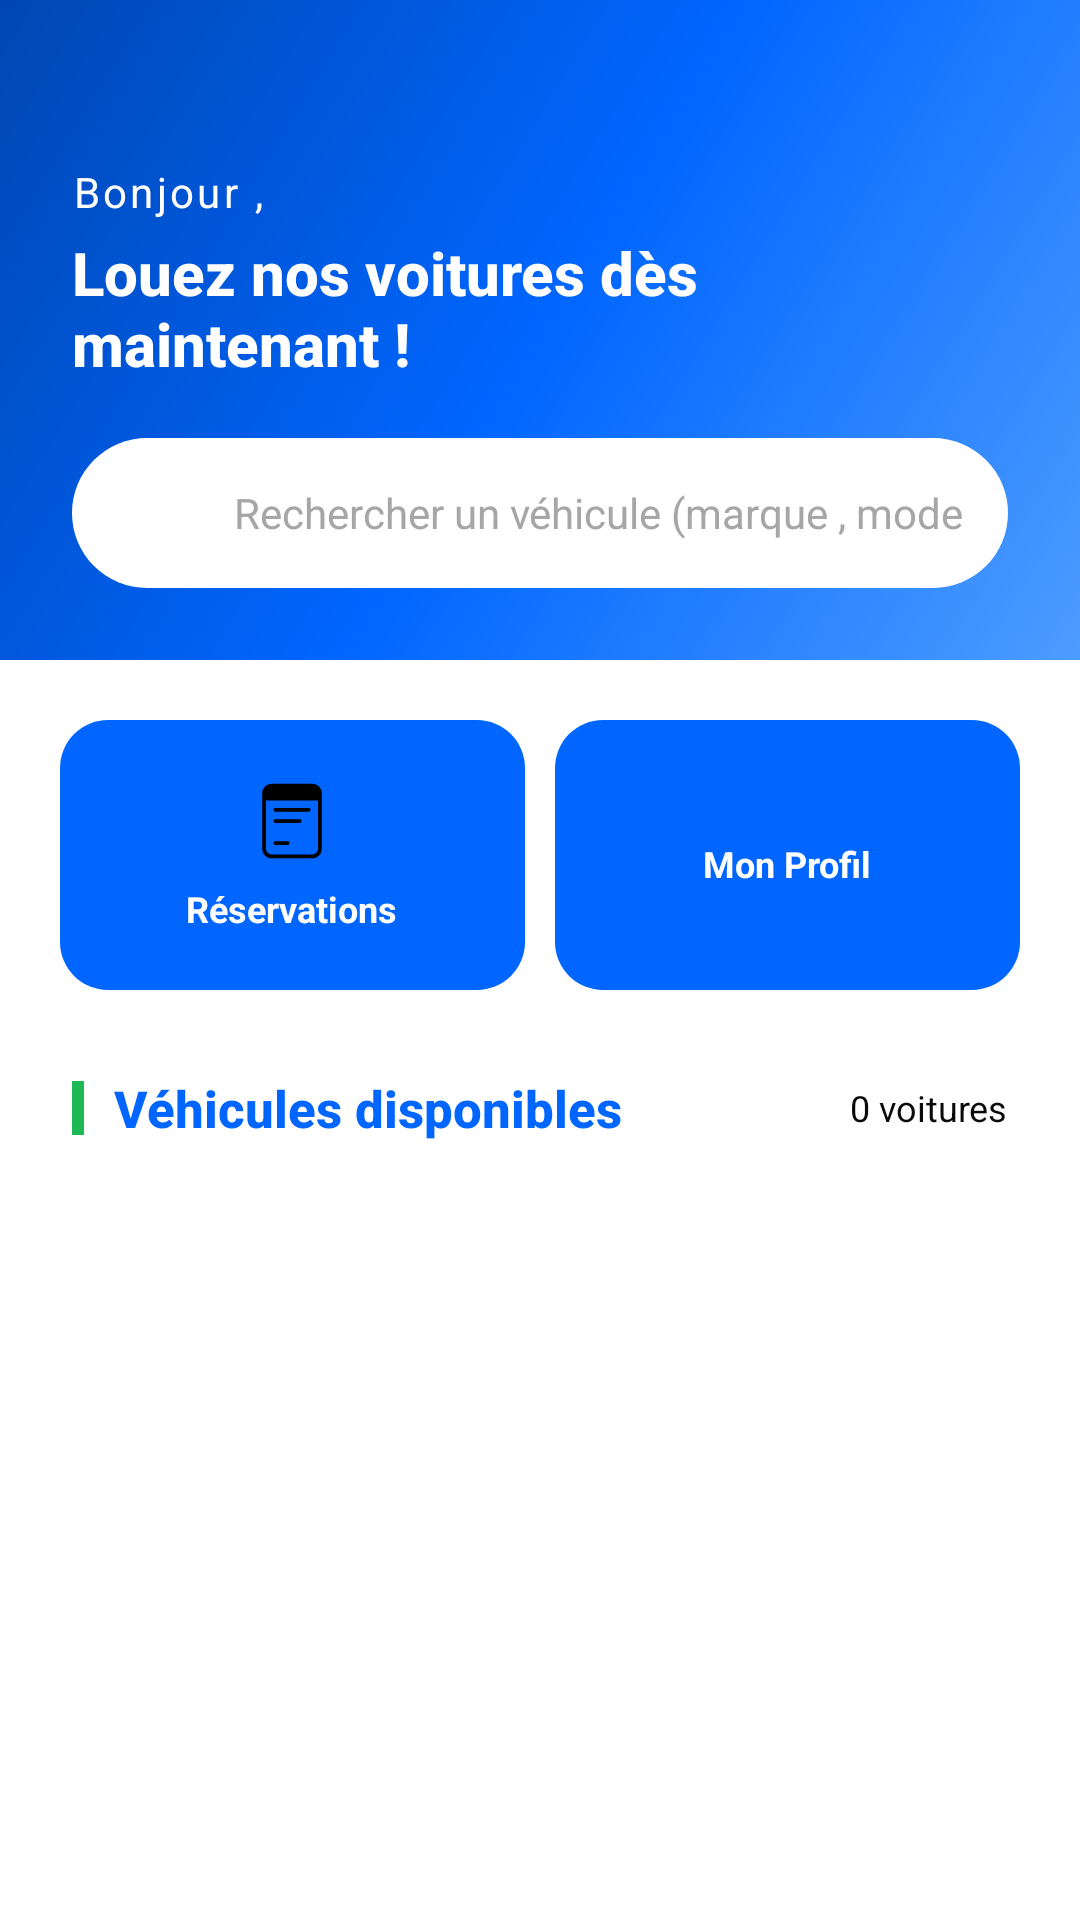

Named icons in this screenshot (1080*1920) and their centers, (x,y):
pad: (292,821)
